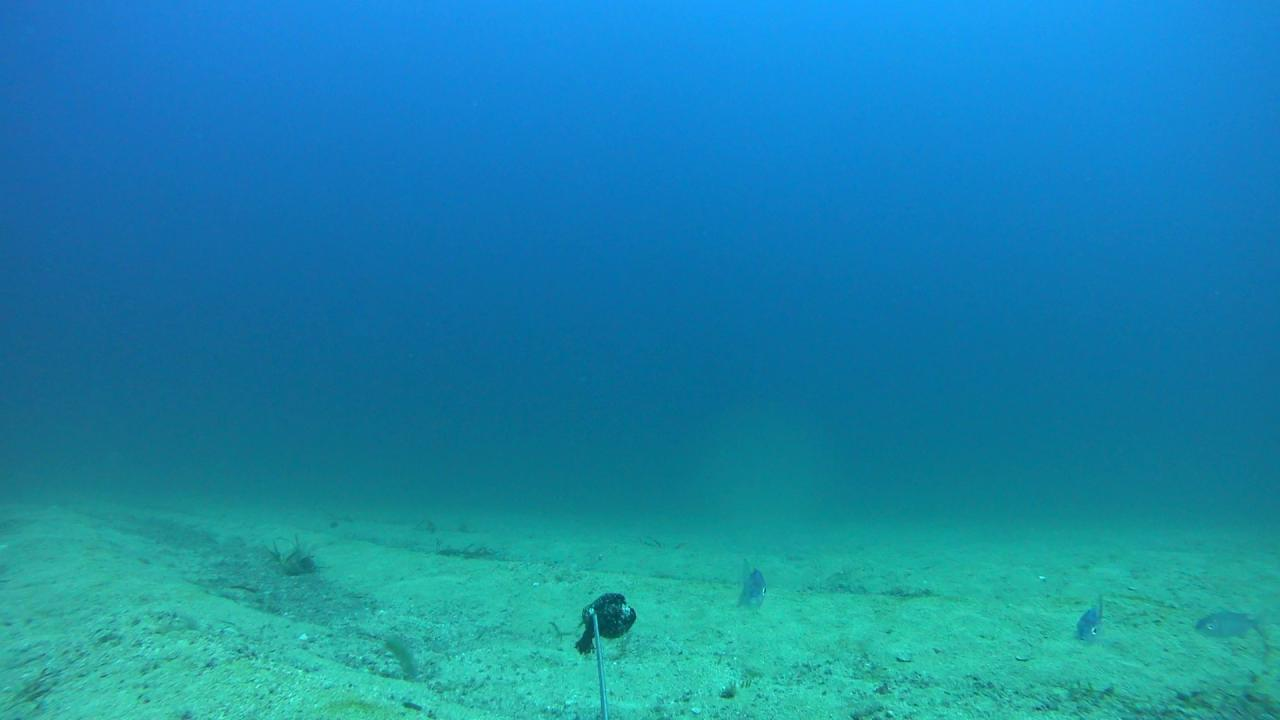pagellus: (1190, 609, 1267, 640), (734, 556, 766, 608), (1075, 594, 1103, 646)
raor: (377, 633, 423, 681)
